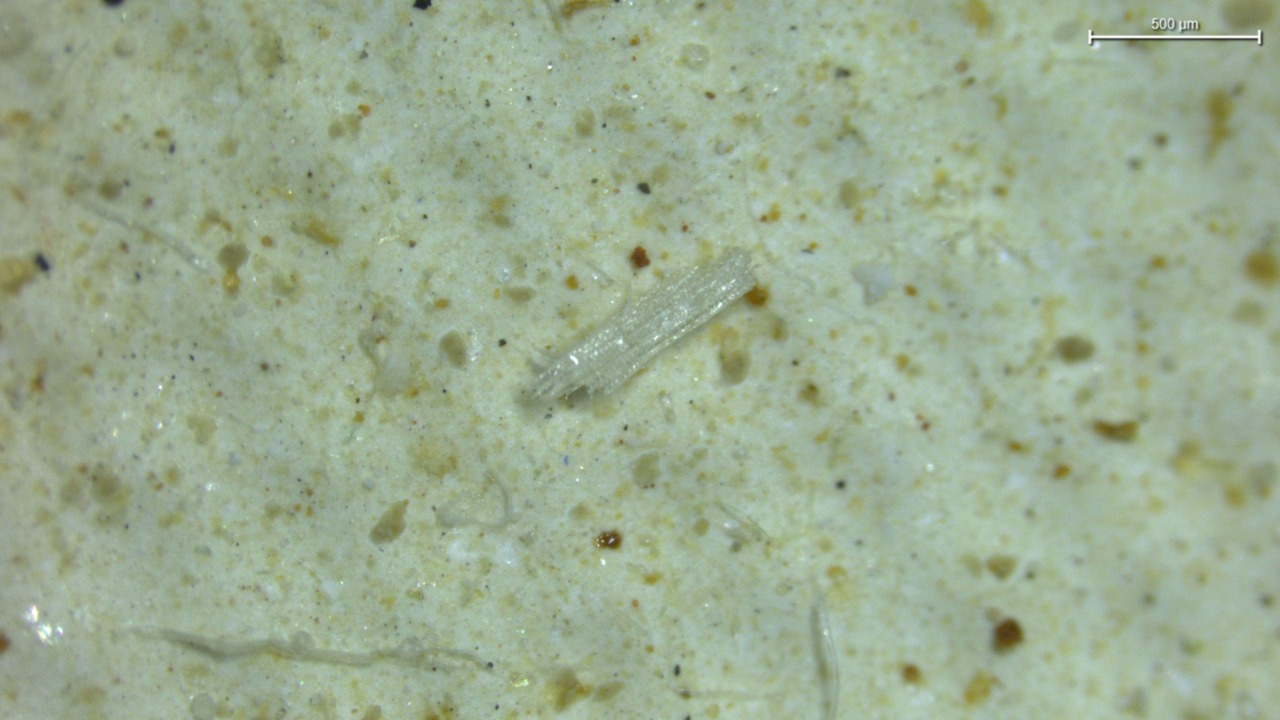microplastic_fragment: (526, 252, 755, 404)
